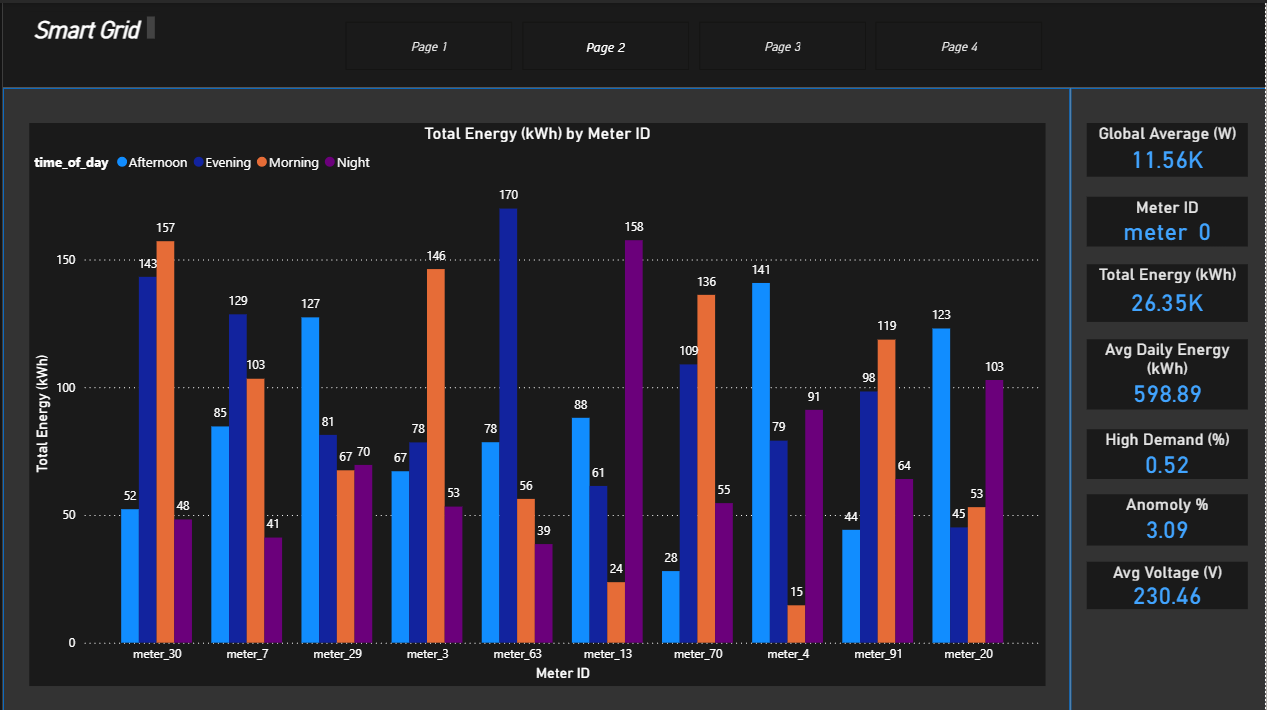

The page's visual inventory and layout, read from the dashboard file:
{"tool":"powerbi","page":{"name":"Page 2","canvas":[1280,720],"ordinal":1},"visuals":[{"type":"shape","box":[0,85.8,1081,634.4],"z":0},{"type":"shape","box":[1081,85.8,199,634.4],"z":1000},{"type":"shape","title":"Smart Grid","box":[0,0,1280,85.8],"z":2000},{"type":"card","title":"Global Average (W)","fields":{"Values":["smart_grid_curated.Global Average Watts"]},"box":[1097.9,121.6,163.4,54.5],"z":3000},{"type":"card","title":"Avg Voltage (V)","fields":{"Values":["smart_grid_curated.Avg Voltage (V)"]},"box":[1097.9,566,163.4,48.1],"z":4000},{"type":"card","title":"Meter ID","fields":{"Values":["Min(smart_grid_curated.meter_id)"]},"box":[1097.9,196.3,163.4,50.7],"z":5000},{"type":"textbox","box":[26.1,8.7,131.9,34.8],"z":6000},{"type":"pageNavigator","box":[347.1,18.7,709.1,49.8],"z":7000},{"type":"card","title":"Anomoly %","fields":{"Values":["smart_grid_curated.Anomaly %"]},"box":[1097.9,497.7,163.4,51.9],"z":8000},{"type":"card","title":"Total Energy (kWh)","fields":{"Values":["smart_grid_curated.Total Energy (kWh)"]},"box":[1097.9,264.7,163.4,58.3],"z":9000},{"type":"card","title":"High Demand (%)","fields":{"Values":["smart_grid_curated.High Demand %"]},"box":[1097.9,431.8,163.4,50.7],"z":10000},{"type":"card","title":"Avg Daily Energy (kWh)","fields":{"Values":["smart_grid_curated.Avg Daily Energy (kWh)"]},"box":[1097.9,340.6,163.4,70.9],"z":11000},{"type":"clusteredColumnChart","title":"Total Energy (kWh) by Meter ID","fields":{"Category":["smart_grid_curated.meter_id"],"Y":["smart_grid_curated.Total Energy (kWh)"],"Series":["smart_grid_curated.time_of_day"]},"box":[26.1,121.4,1029.8,570.2],"z":12000}]}

Visuals, with their boxes in screenshot pixels (x1, y1, x2, y2), scaled from the page's 1280x720 canvas onto the 1267x710 screenshot:
shape: BBox(0, 85, 1070, 709)
shape: BBox(1070, 85, 1266, 709)
"Smart Grid" shape: BBox(0, 0, 1266, 85)
"Global Average (W)" card: BBox(1087, 120, 1248, 174)
"Avg Voltage (V)" card: BBox(1087, 558, 1248, 606)
"Meter ID" card: BBox(1087, 194, 1248, 244)
textbox: BBox(26, 9, 156, 43)
pageNavigator: BBox(344, 18, 1045, 68)
"Anomoly %" card: BBox(1087, 491, 1248, 542)
"Total Energy (kWh)" card: BBox(1087, 261, 1248, 319)
"High Demand (%)" card: BBox(1087, 426, 1248, 476)
"Avg Daily Energy (kWh)" card: BBox(1087, 336, 1248, 406)
"Total Energy (kWh) by Meter ID" clusteredColumnChart: BBox(26, 120, 1045, 682)
